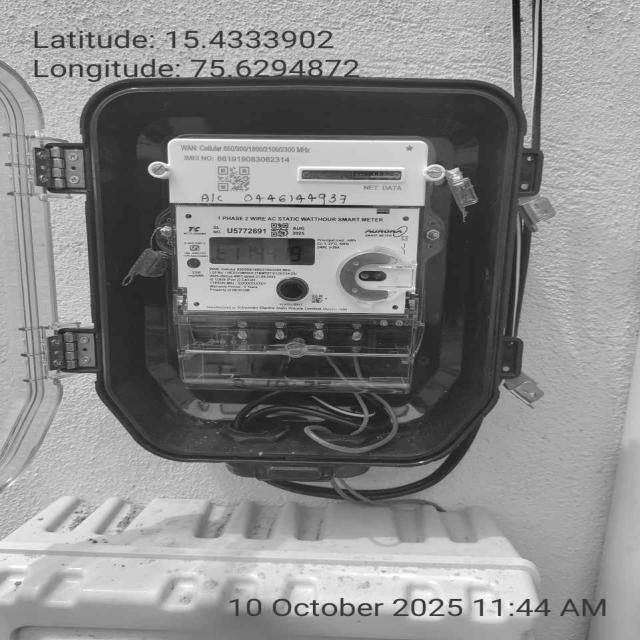meter: (164, 138, 425, 320)
